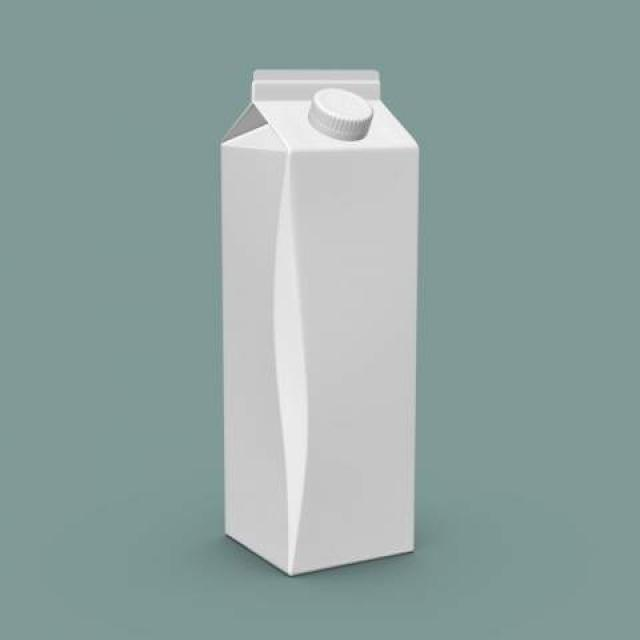Carton: (199, 32, 434, 596)
